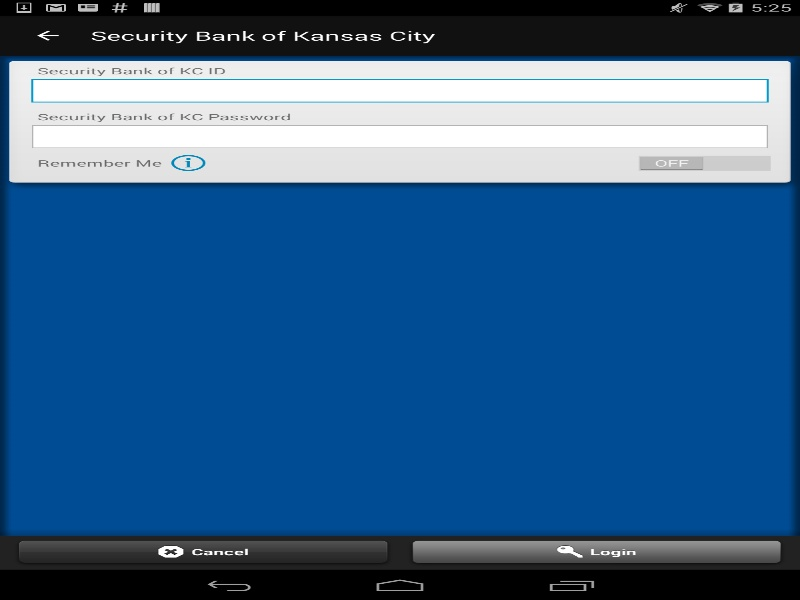Button: (10, 18, 85, 53)
Input: (26, 76, 773, 104), (26, 122, 773, 150)
